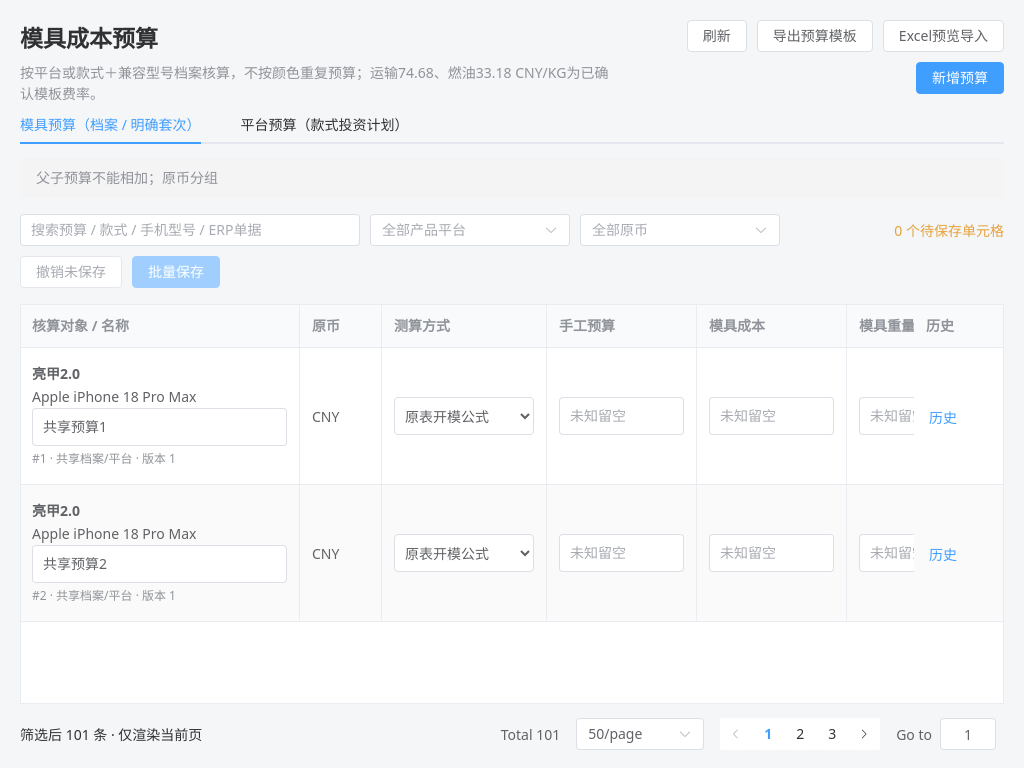
Scenario: wide shared budget and expense ledger › refresh preserves drafts and save submits original values rather than full records
In the 2nd field with placeholder "未知留空": (772, 416) [720, 401, 823, 431], type "20"
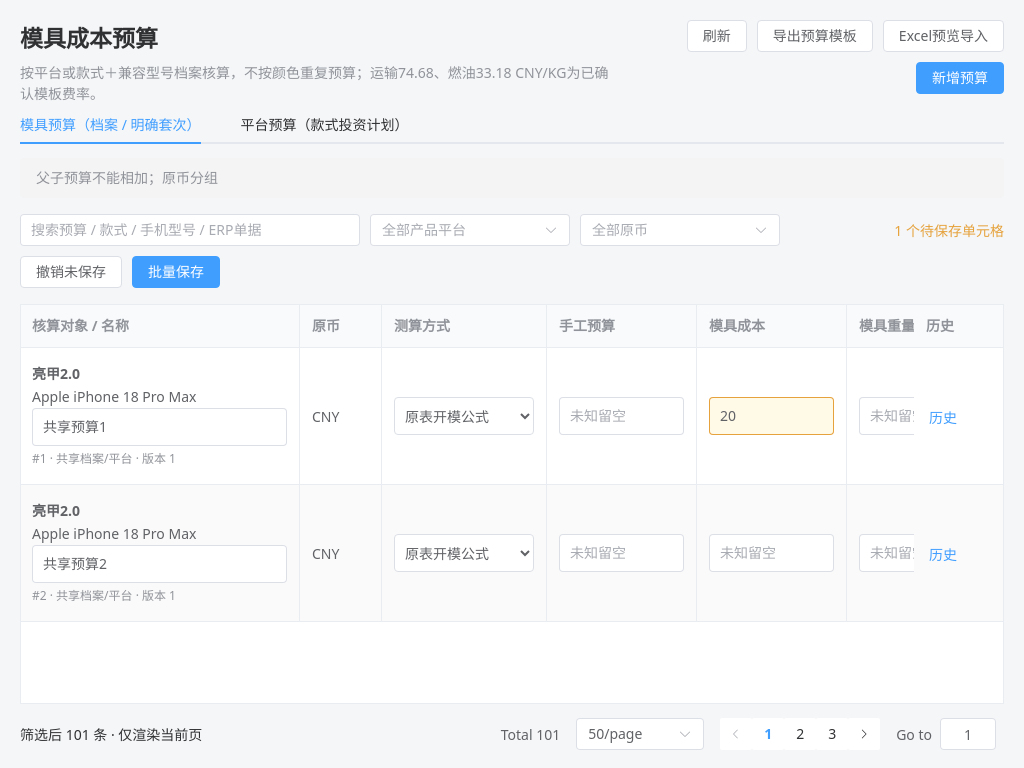
Click the button "刷新": click(717, 36) [687, 20, 747, 52]
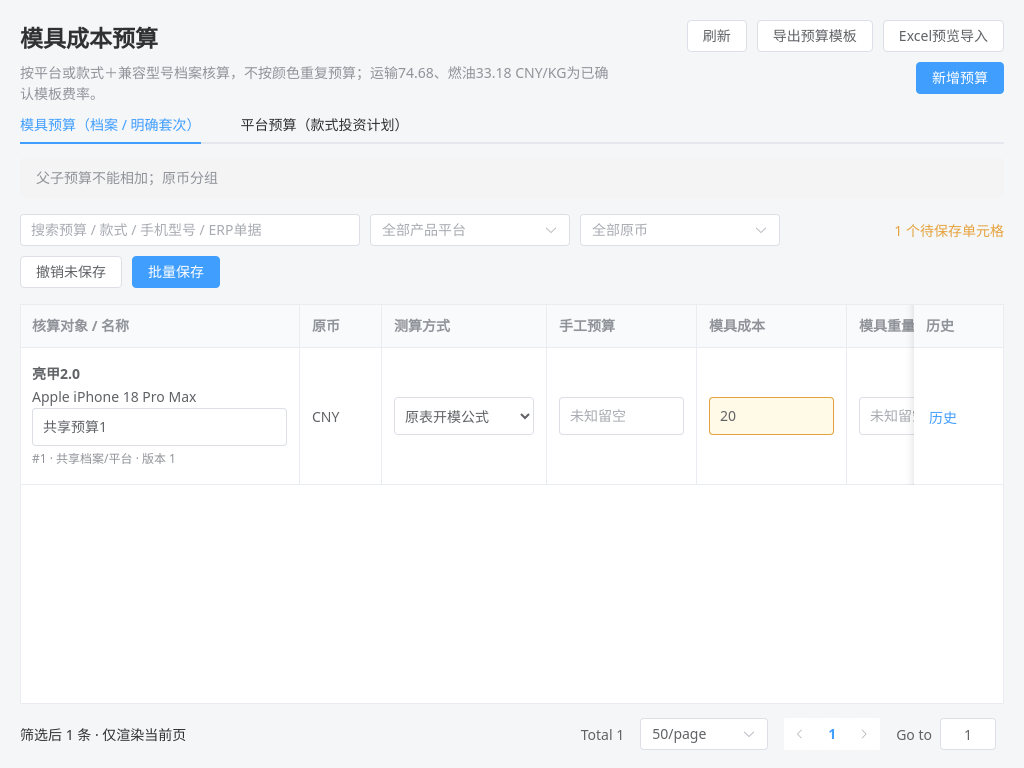
Click the button "批量保存": click(176, 272) [132, 256, 220, 288]
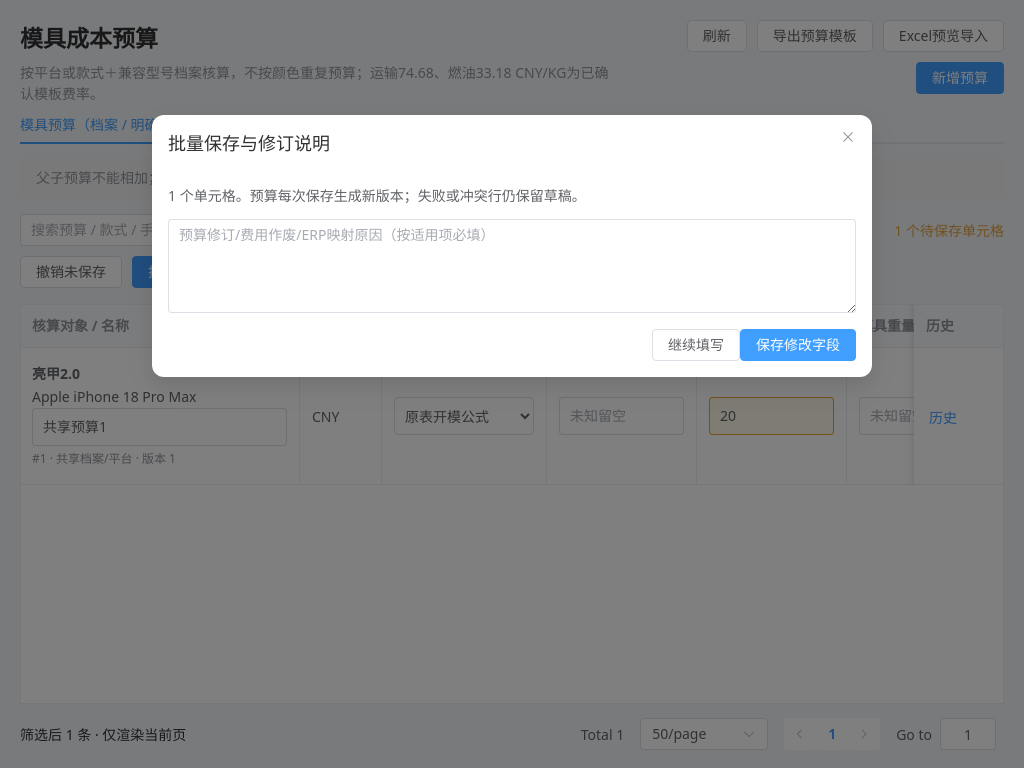
In the text box with placeholder "预算修订/费用作废/ERP映射原因（按适用项必填）": (512, 266) [168, 219, 856, 313], type "单据核对"
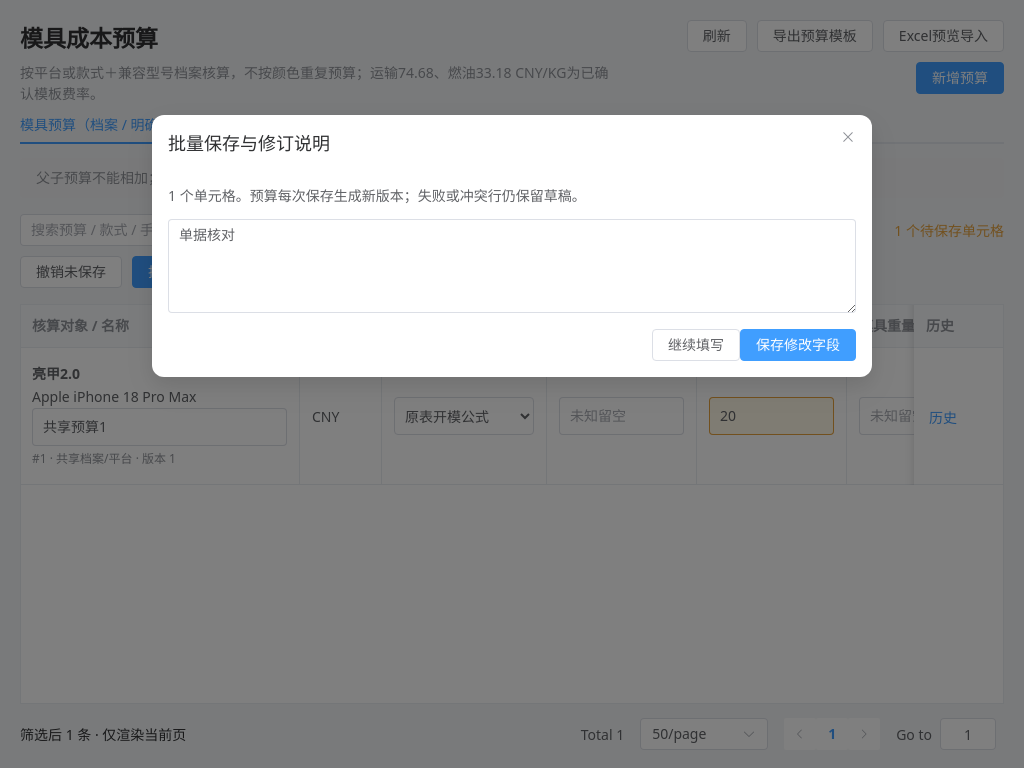
Click the button "保存修改字段": click(798, 345) [740, 329, 856, 361]
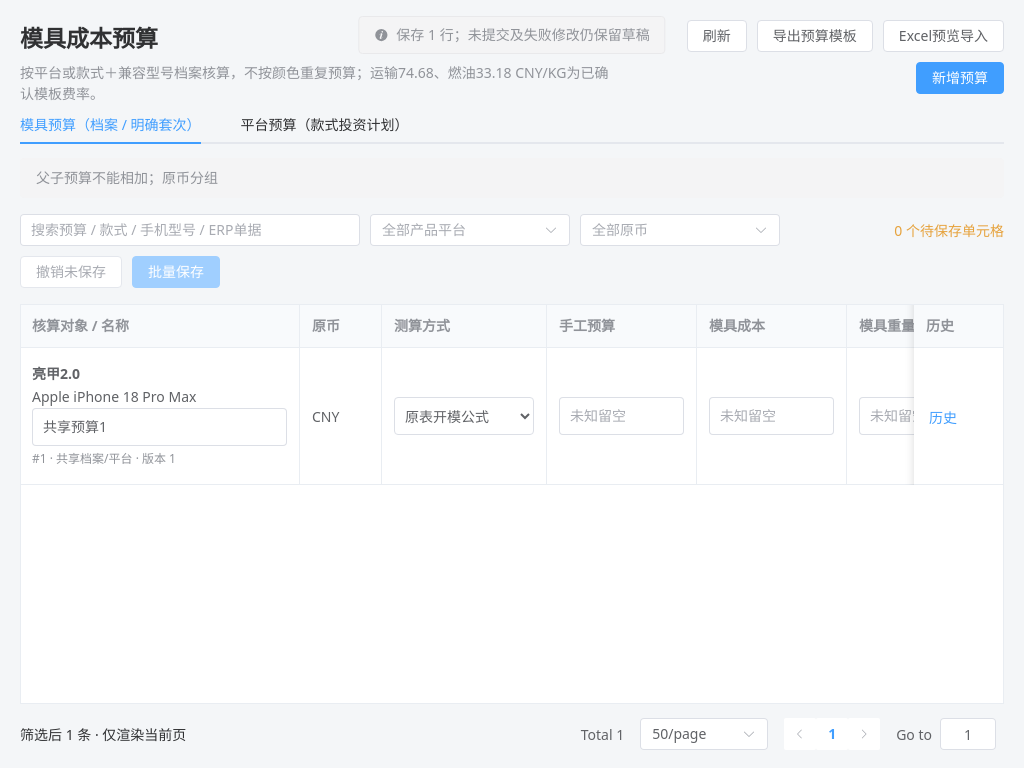
Expected: the text "0 个待保存单元格" is shown, [894, 220, 1004, 240]
